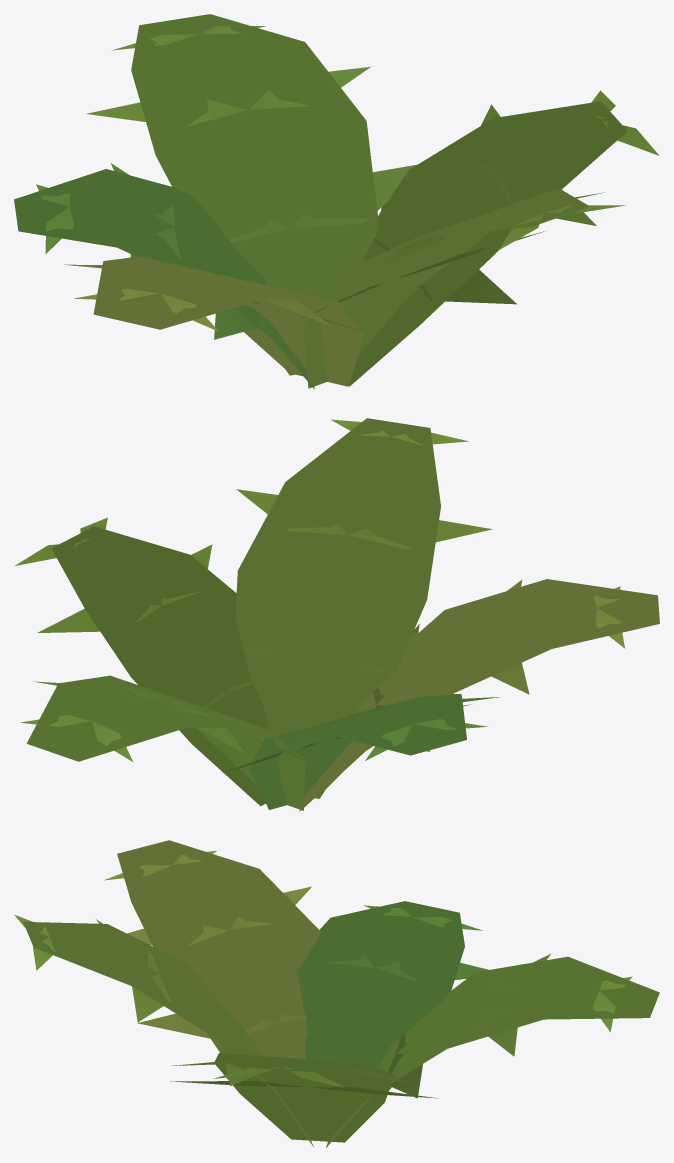
File: fern-bracken-a.lod2.glb
3 renders of one model, top to bottom at view 1: azimuth 30°, elevation 25°; view 2: azimuth 150°, elevation 25°; view 3: azimuth 270°, elevation 25°, orthographic. The views are drawn at different scales.
Parts seen in each view (by area): view 1: fern-bracken-a.lod2; view 2: fern-bracken-a.lod2; view 3: fern-bracken-a.lod2.
Boxes of the visible parts, box(x1,y1,x2,y2) form: fern-bracken-a.lod2: box(14, 14, 659, 389); fern-bracken-a.lod2: box(15, 418, 659, 811); fern-bracken-a.lod2: box(14, 840, 659, 1147).
Bounding box in the file's own units: 1.7 × 0.7291 × 1.91.
